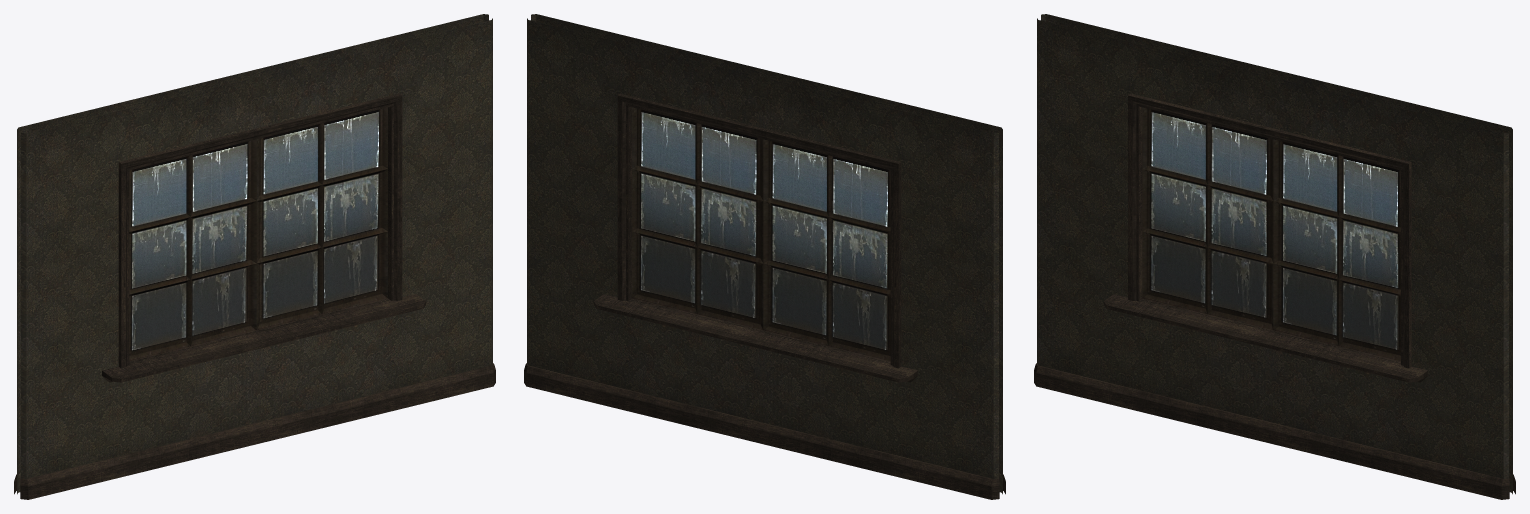
File: window_2_1_double.fbx
3 renders of one model, left to right at view 1: azimuth 30°, elevation 25°; view 2: azimuth 150°, elevation 25°; view 3: azimuth 330°, elevation 25°, orthographic.
Parts seen in each view (by area): view 1: window_2_1_double; view 2: window_2_1_double; view 3: window_2_1_double.
Boxes of the visible parts, box(x1,y1,x2,y2) form: window_2_1_double: box(14, 14, 495, 499); window_2_1_double: box(524, 14, 1005, 499); window_2_1_double: box(1034, 14, 1515, 499).
Bounding box in the file's own units: 4.09 × 0.52 × 3.
